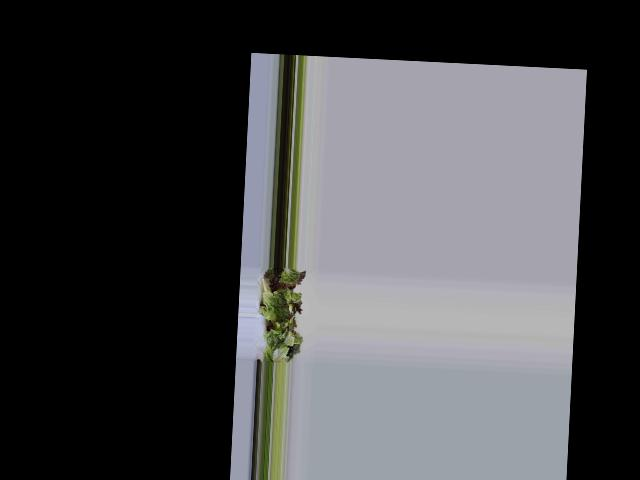lettuce: (262, 270, 302, 358)
